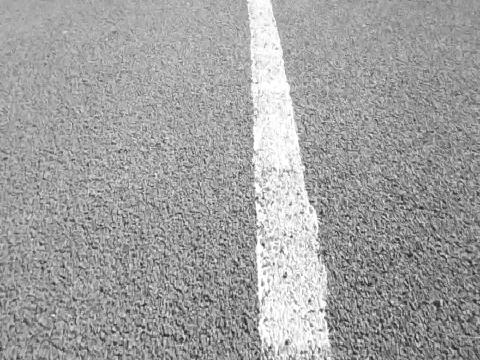Lines: (245, 0, 336, 360)
